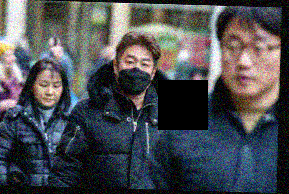with_mask: (116, 51, 155, 95)
without_mask: (218, 29, 280, 98), (32, 76, 63, 106)
